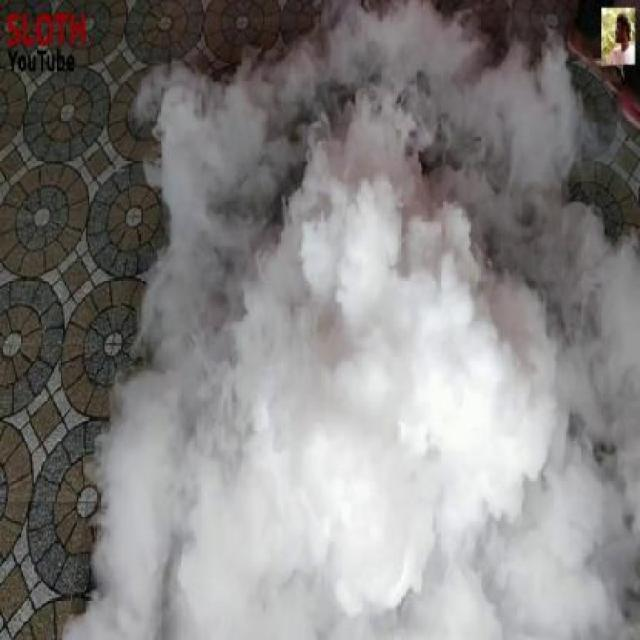smoke: (162, 110, 593, 575)
